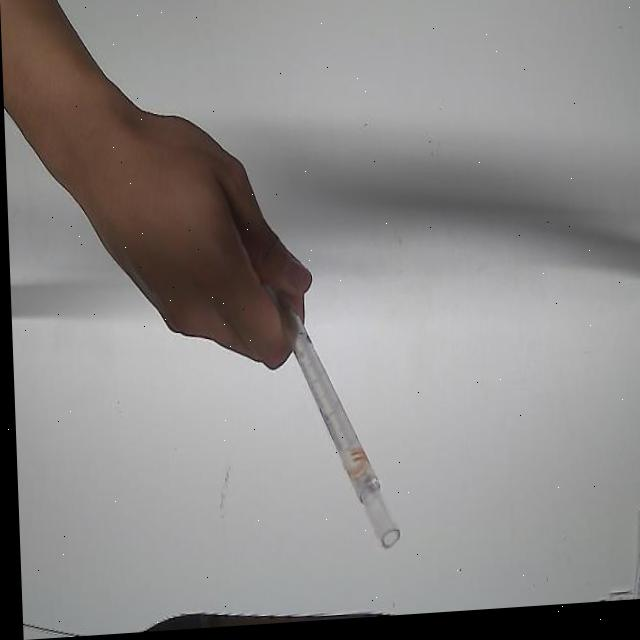Serelogical Pipet 10 mL: (246, 257, 400, 564)
